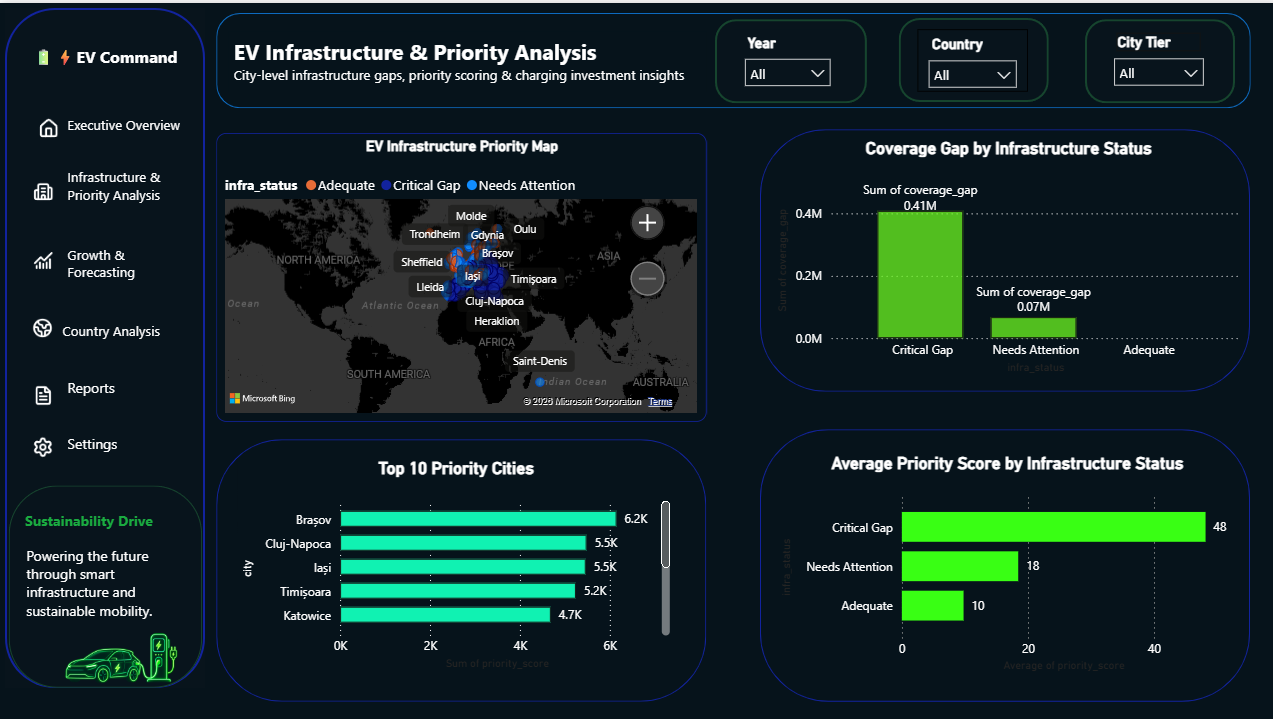

The page's visual inventory and layout, read from the dashboard file:
{"tool":"powerbi","page":{"name":"2.Infrastructure & Priority Analysis","canvas":[1280,720],"ordinal":1},"visuals":[{"type":"shape","box":[4.4,5.6,200,680],"z":0},{"type":"shape","box":[216.2,10.3,1034.5,95.2],"z":1000},{"type":"textbox","box":[228.2,28.2,477.3,60.1],"z":2000},{"type":"textbox","box":[27.5,37.5,180,56.2],"z":3000},{"type":"textbox","box":[62.5,160,133.8,56.2],"z":4000},{"type":"textbox","box":[62.5,107.5,131.2,37.5],"z":5000},{"type":"textbox","box":[62.5,237.5,110,60],"z":6000},{"type":"textbox","box":[57.5,313.8,125,42.5],"z":7000},{"type":"textbox","box":[62.5,370,92.5,43.8],"z":8000},{"type":"textbox","box":[62.5,426.2,73.8,35],"z":9000},{"type":"image","box":[37.5,115,22.1,20.7],"z":10000},{"type":"image","box":[32.5,178.8,21,20],"z":11000},{"type":"image","box":[32.5,247.5,21,20],"z":12000},{"type":"image","box":[32.5,315,20.7,20],"z":13000},{"type":"image","box":[32.5,382.5,21,20],"z":14000},{"type":"image","box":[32.5,433.8,20.7,20.7],"z":15000},{"type":"shape","box":[8.8,482.5,193.3,202.2],"z":16000},{"type":"textbox","box":[20,502.5,157.5,32.5],"z":17000},{"type":"textbox","box":[21.2,537.5,155,92.5],"z":18000},{"type":"shape","box":[760.4,126.1,490,262.5],"z":19000},{"type":"image","box":[53.8,615,128.9,84.4],"z":20000},{"type":"clusteredColumnChart","title":"Coverage Gap by Infrastructure Status","fields":{"Category":["ev_charging_analysis ev_data.infra_status"],"Y":["Sum(ev_charging_analysis ev_data.coverage_gap)"]},"box":[772,135.1,472.5,240],"z":21000},{"type":"shape","box":[760.4,425.9,490,272.5],"z":22000},{"type":"barChart","title":"Average Priority Score by Infrastructure Status","fields":{"Category":["ev_charging_analysis ev_data.infra_status"],"Y":["Avg(ev_charging_analysis ev_data.priority_score)"]},"box":[775.9,450.3,462.5,223.8],"z":23000},{"type":"shape","box":[216.2,436.2,490,262.5],"z":24000},{"type":"clusteredBarChart","title":"Top 10 Priority Cities","fields":{"Category":["ev_charging_analysis ev_data.city"],"Y":["Sum(ev_charging_analysis ev_data.priority_score)"]},"box":[238,455.2,437.5,216.2],"z":25000},{"type":"map","title":"EV Infrastructure Priority Map","fields":{"Y":["Avg(ev_charging_analysis ev_data.latitude)"],"X":["Avg(ev_charging_analysis ev_data.longitude)"],"Size":["Avg(ev_charging_analysis ev_data.priority_score)"],"Category":["ev_charging_analysis ev_data.city"],"Series":["ev_charging_analysis ev_data.infra_status"]},"box":[216.2,130,490,289],"z":26000},{"type":"shape","box":[715.3,16,151.8,84],"z":27000},{"type":"shape","box":[898.2,14.7,150,84],"z":28000},{"type":"shape","box":[1084.7,16,150,84],"z":29000},{"type":"slicer","fields":{"Values":["ev_charging_analysis ev_data.year"]},"box":[733.7,25.8,107.5,63.8],"z":30000},{"type":"slicer","fields":{"Values":["ev_charging_analysis ev_data.country"]},"box":[917.8,25.8,110,62],"z":31000},{"type":"slicer","fields":{"Values":["ev_charging_analysis ev_data.city_tier"]},"box":[1104.3,24.5,110,66],"z":32000}]}

Visuals, with their boxes on the page's 1280x720 design canvas (x1, y1, x2, y2). These are canvas units, not pixel positions in the 1273x719 screenshot, which may show the page scaled, cropped or inside an application window:
shape: box=[4, 6, 204, 686]
shape: box=[216, 10, 1251, 106]
textbox: box=[228, 28, 706, 88]
textbox: box=[28, 38, 208, 94]
textbox: box=[62, 160, 196, 216]
textbox: box=[62, 108, 194, 145]
textbox: box=[62, 238, 172, 298]
textbox: box=[58, 314, 182, 356]
textbox: box=[62, 370, 155, 414]
textbox: box=[62, 426, 136, 461]
image: box=[38, 115, 60, 136]
image: box=[32, 179, 54, 199]
image: box=[32, 248, 54, 268]
image: box=[32, 315, 53, 335]
image: box=[32, 382, 54, 402]
image: box=[32, 434, 53, 454]
shape: box=[9, 482, 202, 685]
textbox: box=[20, 502, 178, 535]
textbox: box=[21, 538, 176, 630]
shape: box=[760, 126, 1250, 389]
image: box=[54, 615, 183, 699]
"Coverage Gap by Infrastructure Status" clusteredColumnChart: box=[772, 135, 1244, 375]
shape: box=[760, 426, 1250, 698]
"Average Priority Score by Infrastructure Status" barChart: box=[776, 450, 1238, 674]
shape: box=[216, 436, 706, 699]
"Top 10 Priority Cities" clusteredBarChart: box=[238, 455, 676, 671]
"EV Infrastructure Priority Map" map: box=[216, 130, 706, 419]
shape: box=[715, 16, 867, 100]
shape: box=[898, 15, 1048, 99]
shape: box=[1085, 16, 1235, 100]
slicer - ev_charging_analysis ev_data.year: box=[734, 26, 841, 90]
slicer - ev_charging_analysis ev_data.country: box=[918, 26, 1028, 88]
slicer - ev_charging_analysis ev_data.city_tier: box=[1104, 24, 1214, 90]
